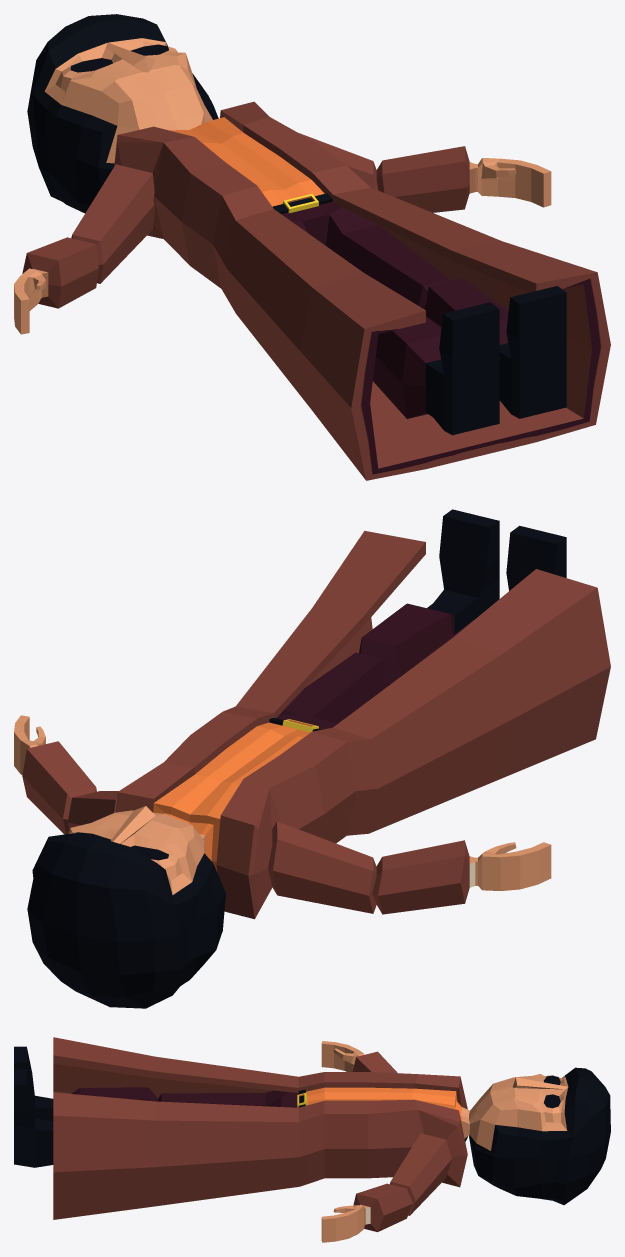
Rendered from detective (1).fbx.
3 views of the same model, one above another, from view 1: azimuth 30°, elevation 25°; view 2: azimuth 150°, elevation 25°; view 3: azimuth 270°, elevation 25° (orthographic). The views are drawn at different scales.
Visible parts, largest first — view 1: Cube; view 2: Cube; view 3: Cube.
Boxes of the visible parts, <box> form: Cube: <box>14,14,610,480</box>; Cube: <box>14,509,610,1008</box>; Cube: <box>14,1037,610,1242</box>.
Size of the model in its own units: 1.6 by 0.5499 by 2.26.
